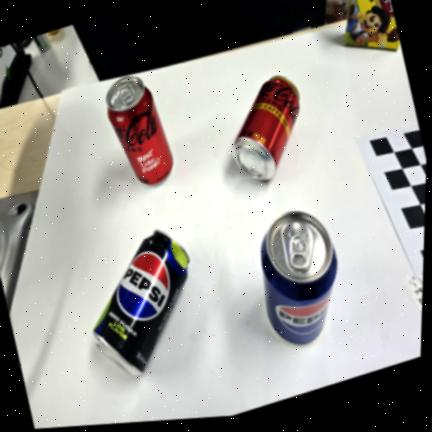can_coke_decaf: (232, 75, 299, 179)
can_coke_zero: (106, 76, 172, 184)
can_pepsi: (261, 211, 337, 343)
can_pepsi_zero: (93, 229, 189, 374)
